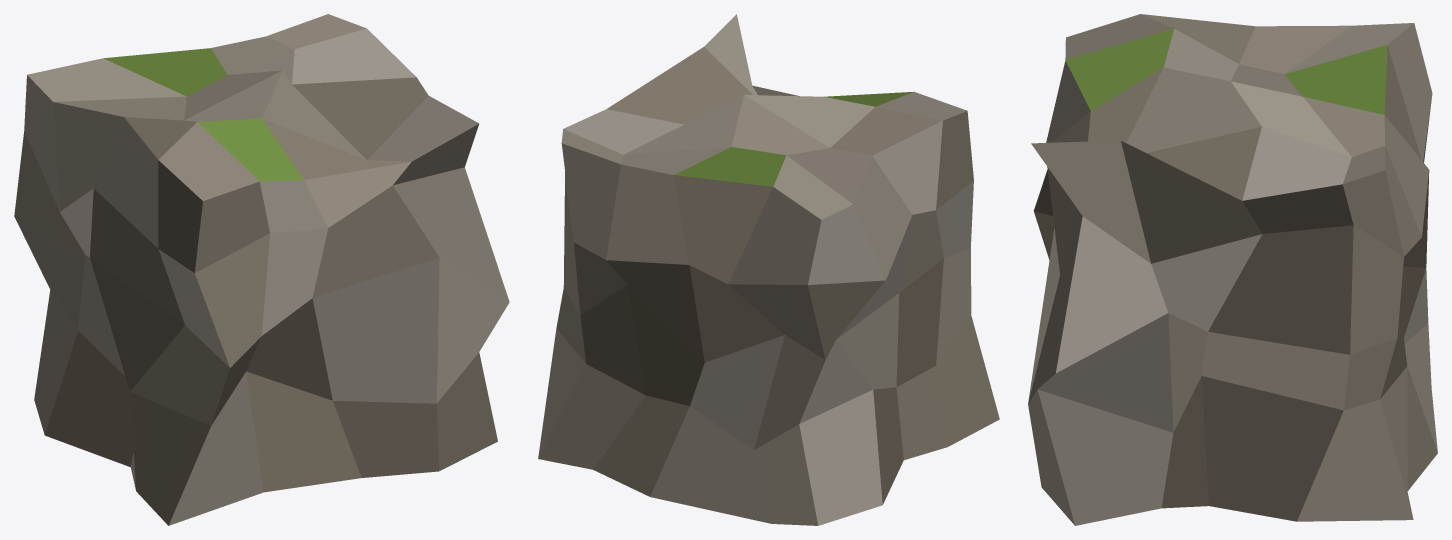
The model's file is Granite_b.fbx.
3 views of the same model, side by side, from view 1: azimuth 30°, elevation 25°; view 2: azimuth 150°, elevation 25°; view 3: azimuth 270°, elevation 25° (orthographic). The views are drawn at different scales.
Visible parts, largest first — view 1: Granite_b; view 2: Granite_b; view 3: Granite_b.
Boxes of the visible parts, x1,y1,x2,y2 form: Granite_b: (14, 14, 509, 525); Granite_b: (538, 14, 999, 525); Granite_b: (1028, 14, 1437, 525).
Size of what is drawn, in the model's own units: 1 by 1 by 1.
